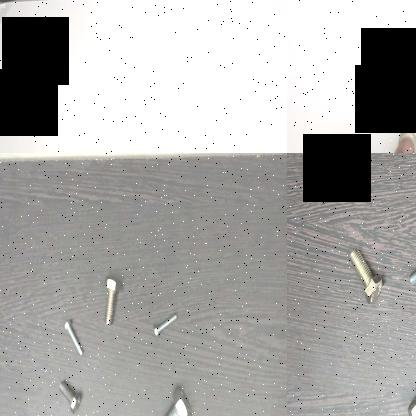Bolts: (345, 238, 387, 304), (156, 381, 190, 416), (98, 270, 120, 324), (63, 316, 86, 358), (57, 376, 82, 414), (151, 306, 177, 342), (405, 252, 416, 293)
NUTS: (362, 52, 388, 104)
